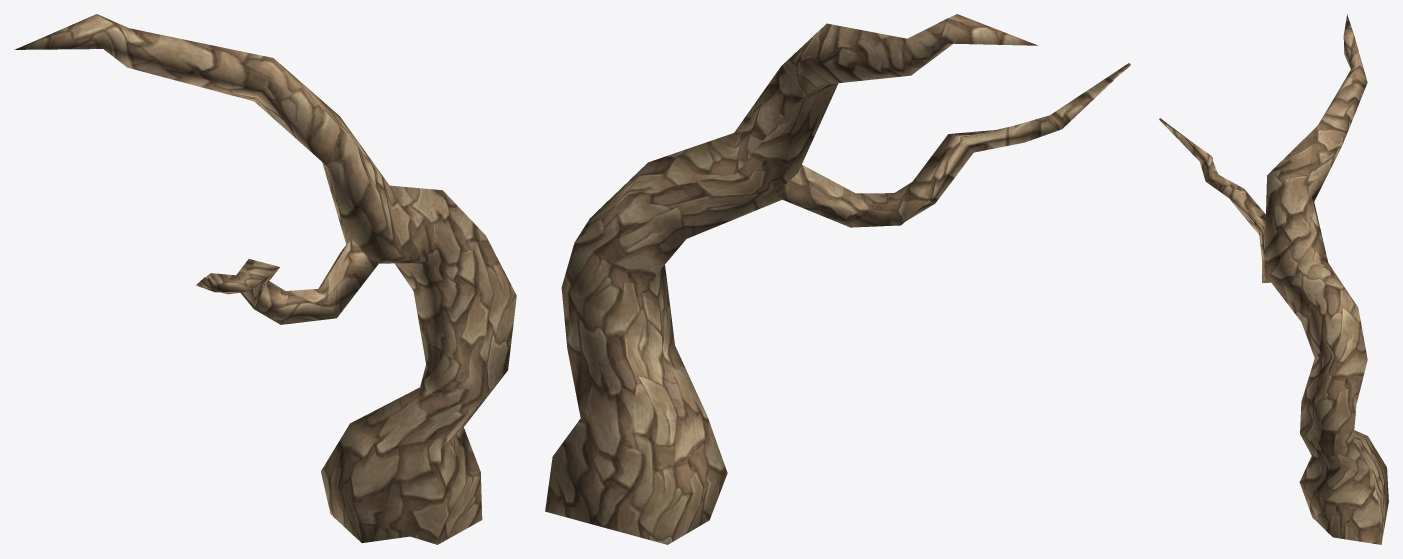
File: dead tree bent collider.FBX
3 renders of one model, left to right at view 1: azimuth 30°, elevation 25°; view 2: azimuth 150°, elevation 25°; view 3: azimuth 270°, elevation 25°, orthographic. The views are drawn at different scales.
Parts seen in each view (by area): view 1: dead tree bent col; view 2: dead tree bent col; view 3: dead tree bent col.
Part boxes in pixels (bbox=[...]): dead tree bent col: bbox=[14, 14, 516, 544]; dead tree bent col: bbox=[545, 14, 1130, 544]; dead tree bent col: bbox=[1159, 14, 1388, 544].
Bounding box in the file's own units: 5.97 × 6.87 × 3.73.
